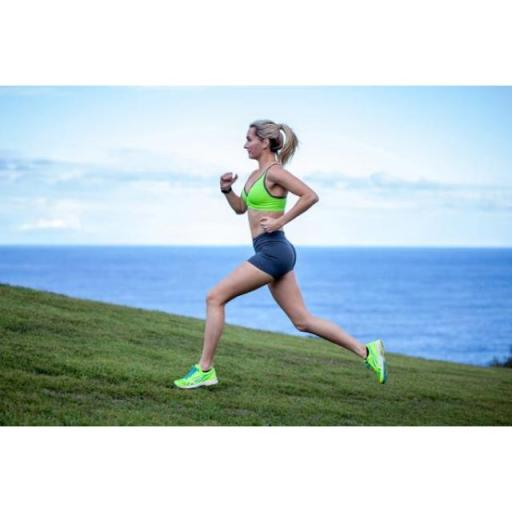Running: (167, 110, 391, 398)
